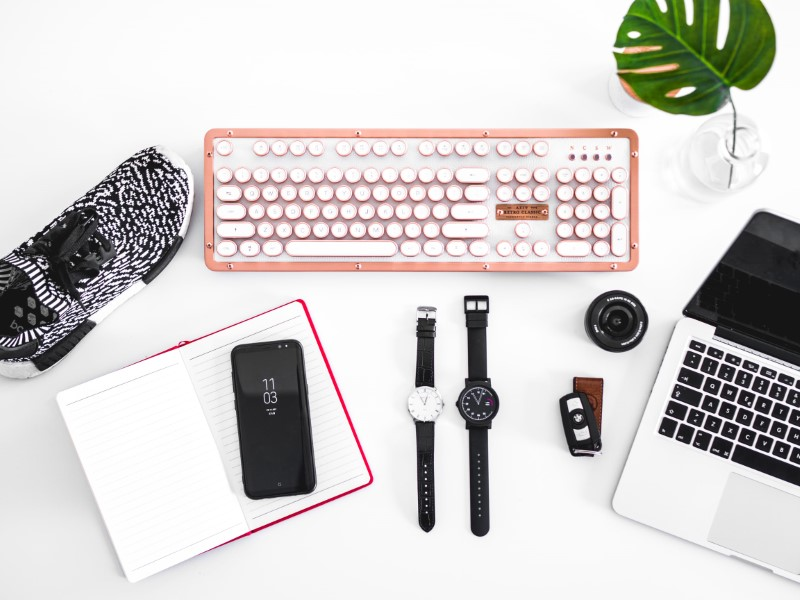carkey: (557, 387, 605, 459)
